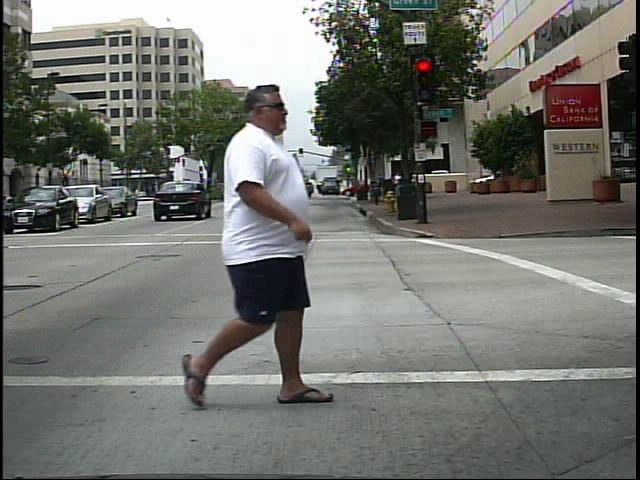person: (175, 77, 329, 413)
